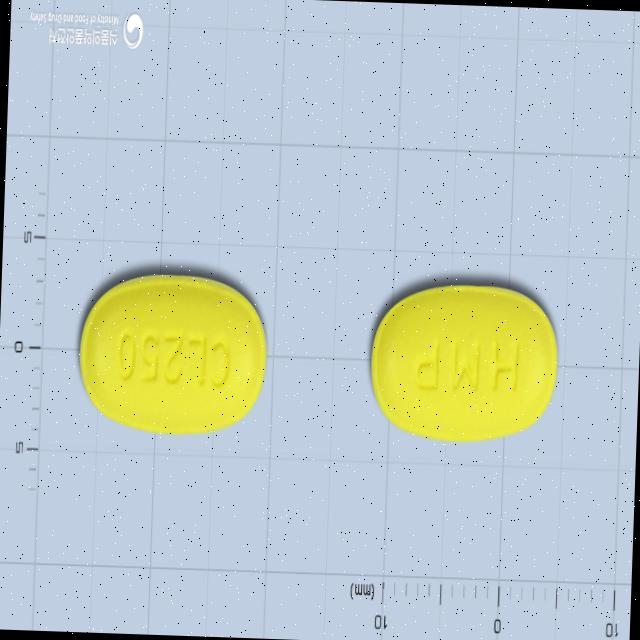Clari - 500mg: (73, 266, 270, 442), (364, 278, 561, 448)
